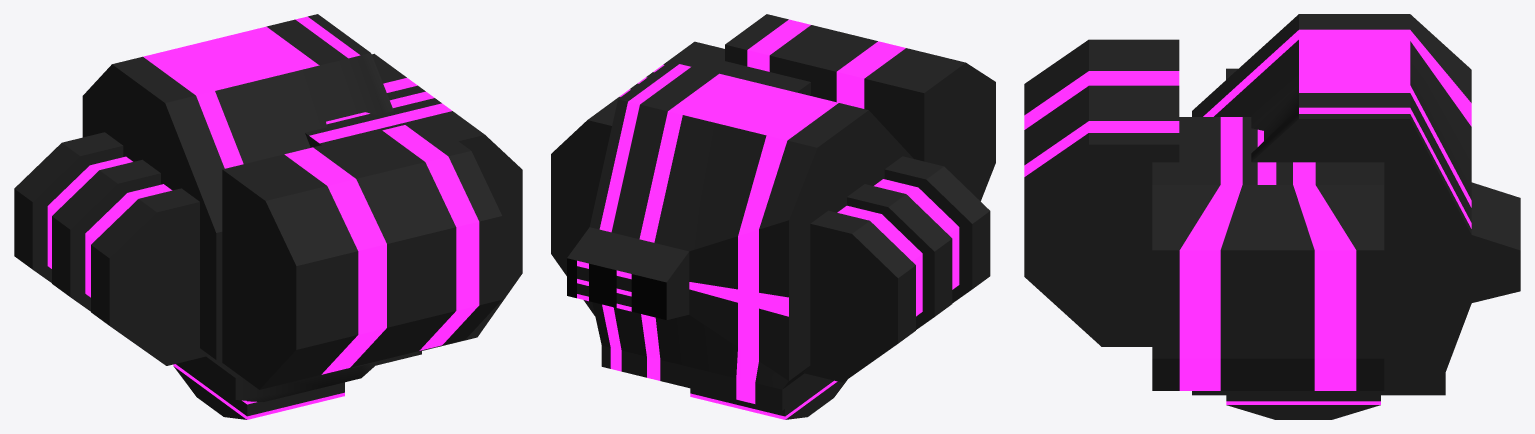
Rendered from repulsor-attractor-floating.fbx.
3 renders of one model, left to right at view 1: azimuth 30°, elevation 25°; view 2: azimuth 150°, elevation 25°; view 3: azimuth 270°, elevation 25°, orthographic. The views are drawn at different scales.
Visible parts, largest first — view 1: pCube9; view 2: pCube9; view 3: pCube9.
Boxes of the visible parts, x1,y1,x2,y2 form: pCube9: (14, 14, 522, 419); pCube9: (551, 14, 995, 419); pCube9: (1024, 14, 1520, 419).
Bounding box in the file's own units: 4.25 × 3.41 × 4.62.
